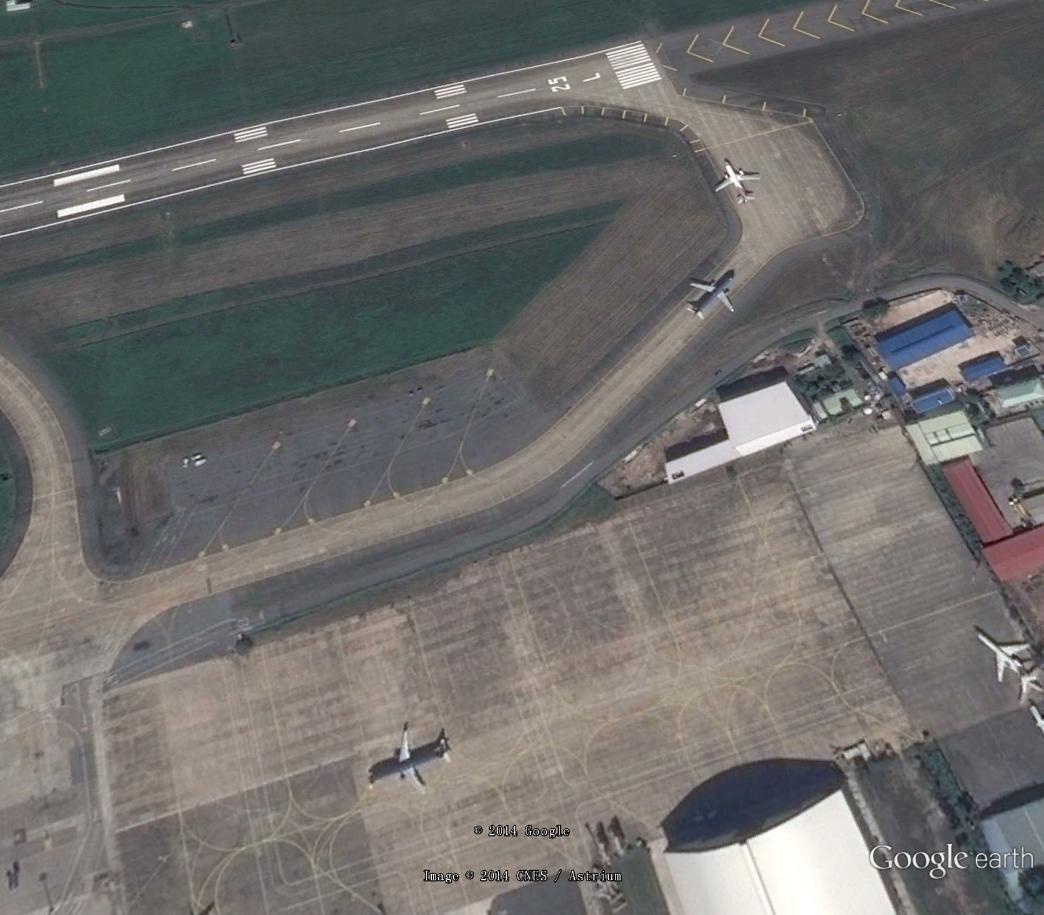aircraft: (367, 721, 457, 798), (970, 625, 1041, 690), (682, 270, 741, 325), (712, 157, 765, 205)
